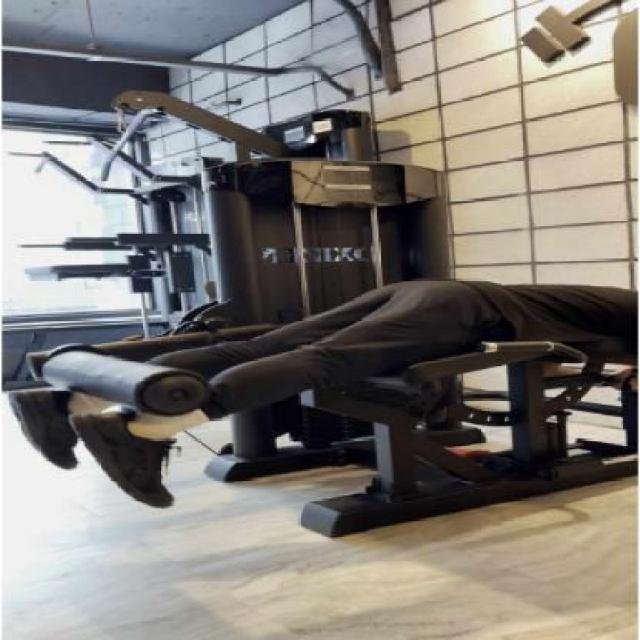reg curl machine: (4, 149, 640, 546)
